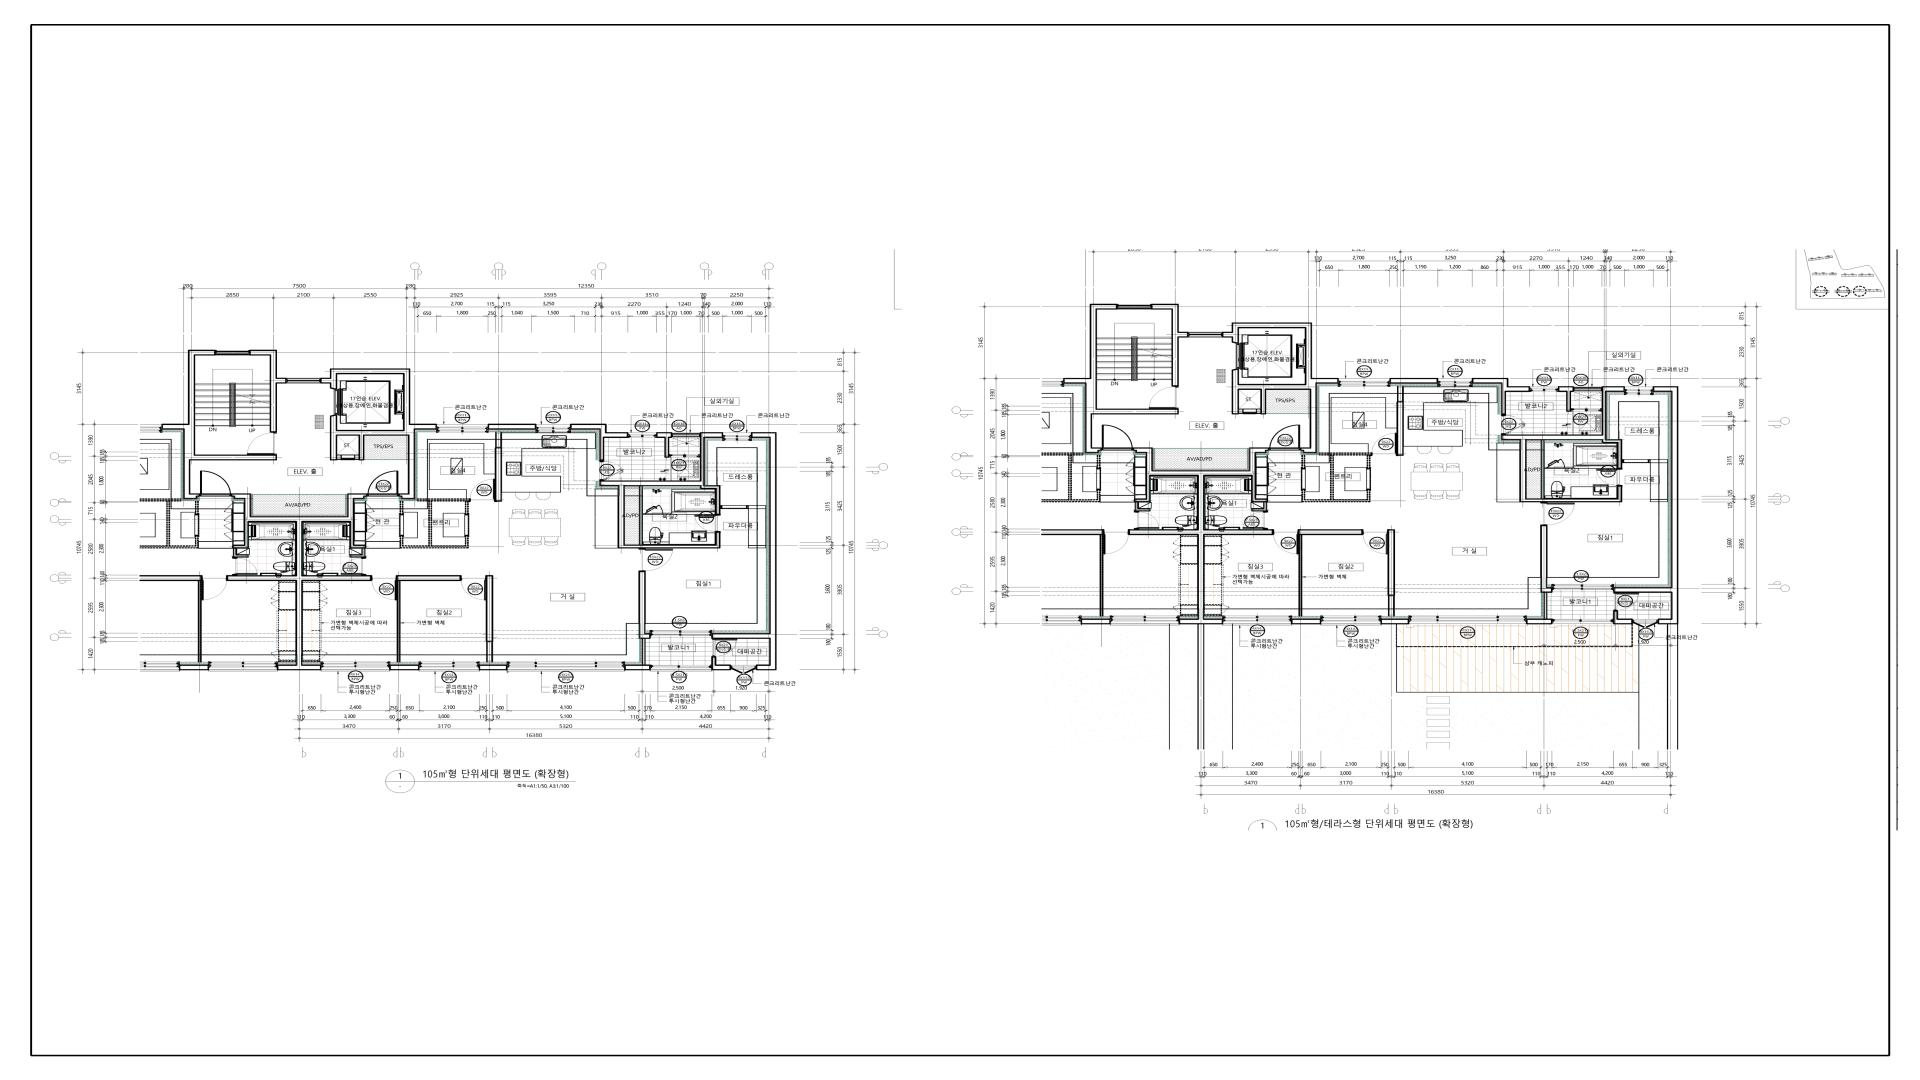door: (1101, 425, 1133, 454), (1270, 425, 1300, 454), (368, 471, 398, 498), (638, 549, 674, 571), (1540, 502, 1575, 525), (247, 433, 277, 455), (1149, 386, 1179, 409), (460, 575, 487, 600), (1274, 529, 1299, 555), (1362, 529, 1387, 554), (372, 575, 397, 600), (469, 479, 495, 502), (1371, 433, 1396, 454), (1501, 415, 1526, 435), (695, 514, 721, 533), (599, 462, 624, 480), (340, 558, 367, 575), (1242, 512, 1269, 529), (712, 640, 737, 657), (1614, 593, 1639, 611), (1597, 469, 1623, 485), (1633, 618, 1658, 628), (732, 665, 756, 674), (1544, 459, 1565, 468), (644, 505, 663, 514), (670, 454, 700, 458), (1571, 409, 1602, 411)
wall: (1129, 447, 1274, 625), (225, 493, 371, 670), (161, 349, 277, 500), (1063, 303, 1179, 454), (711, 433, 777, 670), (1614, 386, 1679, 625), (320, 368, 438, 498), (1222, 323, 1338, 454), (600, 433, 723, 549), (1502, 386, 1625, 502), (400, 498, 469, 549), (249, 349, 286, 433), (1151, 303, 1188, 386), (570, 423, 629, 462), (1472, 378, 1530, 415), (1302, 489, 1370, 502), (638, 571, 651, 640), (1319, 452, 1373, 468), (1540, 525, 1552, 593), (1387, 529, 1395, 617), (487, 575, 493, 662), (1396, 386, 1404, 456), (495, 433, 502, 502), (1299, 529, 1362, 535), (397, 575, 460, 582), (657, 433, 673, 458), (1557, 386, 1573, 411), (1299, 535, 1303, 617), (397, 582, 401, 662), (638, 487, 644, 545), (1613, 611, 1633, 625), (711, 657, 732, 670), (488, 423, 537, 429), (1390, 378, 1439, 384), (1540, 440, 1544, 498), (1382, 618, 1408, 625), (1526, 618, 1552, 625), (1331, 456, 1335, 500), (389, 665, 419, 670), (1081, 618, 1110, 624), (479, 665, 508, 670), (349, 549, 365, 558), (624, 665, 651, 670), (1292, 618, 1320, 624), (1251, 502, 1267, 512), (464, 513, 469, 537), (1366, 468, 1371, 489), (642, 640, 646, 665), (1302, 468, 1305, 491), (400, 516, 404, 538), (400, 501, 404, 516), (1302, 455, 1305, 468), (338, 455, 342, 460), (355, 455, 359, 460), (1257, 409, 1261, 414), (1240, 409, 1242, 414), (663, 513, 673, 514), (1565, 468, 1575, 468)
window: (506, 662, 625, 667), (1408, 616, 1526, 621), (506, 667, 625, 671), (1552, 584, 1614, 591), (320, 662, 390, 667), (1222, 616, 1292, 621), (650, 630, 712, 636), (418, 662, 480, 667), (1320, 616, 1382, 621), (1408, 621, 1526, 624), (436, 427, 489, 433), (1222, 621, 1292, 625), (320, 667, 390, 671), (1338, 381, 1390, 386), (1320, 621, 1382, 625), (419, 667, 480, 671), (1552, 618, 1613, 622), (651, 665, 711, 669), (535, 427, 571, 434), (1117, 303, 1151, 310), (1439, 381, 1472, 388), (723, 435, 752, 442), (1625, 389, 1654, 396), (215, 349, 249, 355), (286, 378, 320, 384), (1188, 332, 1222, 338), (650, 669, 712, 671), (1573, 386, 1602, 392), (673, 433, 700, 438), (436, 425, 488, 427), (1338, 378, 1390, 381), (629, 434, 657, 438), (537, 425, 570, 427), (1439, 378, 1472, 381), (1552, 622, 1613, 624), (1625, 386, 1654, 389), (1530, 386, 1557, 389), (723, 433, 750, 435), (1530, 389, 1557, 392), (629, 433, 657, 434)
